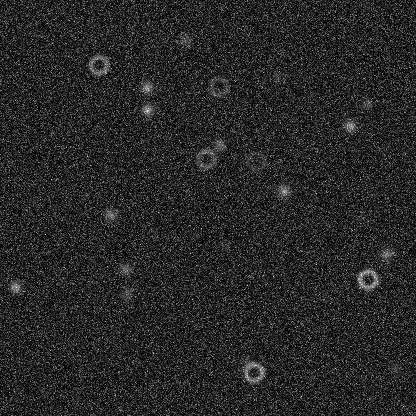Ring: (193, 146, 217, 170), (206, 74, 230, 98), (86, 52, 110, 76), (241, 360, 265, 384), (243, 149, 267, 173), (355, 267, 379, 291)
Spot: (354, 210, 370, 226), (138, 79, 154, 95), (238, 354, 254, 370), (7, 278, 23, 294), (255, 72, 271, 88), (387, 359, 403, 375), (358, 95, 374, 111), (119, 285, 135, 301), (217, 238, 233, 254), (269, 68, 285, 84), (341, 117, 357, 133), (139, 101, 155, 117), (176, 32, 192, 48), (102, 206, 118, 222), (211, 136, 227, 152), (117, 260, 133, 276), (276, 182, 292, 198), (378, 245, 394, 261)
